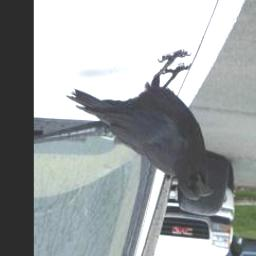Crow: (67, 48, 212, 202)
